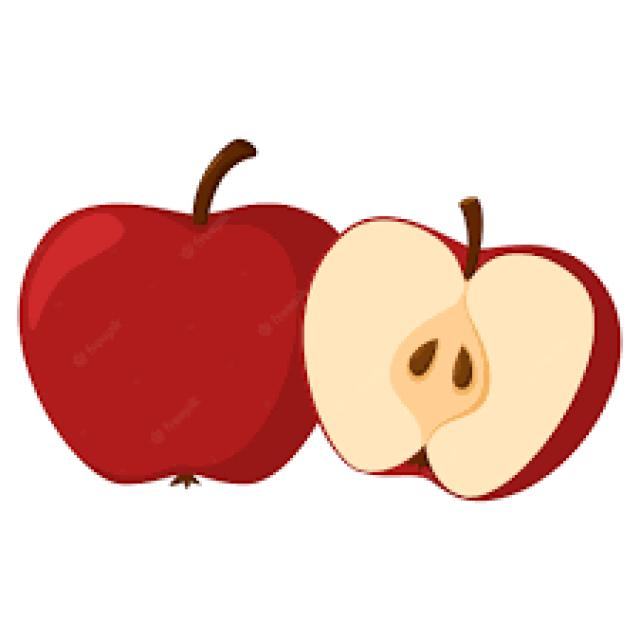Apple: (302, 218, 621, 500), (22, 203, 340, 484)
